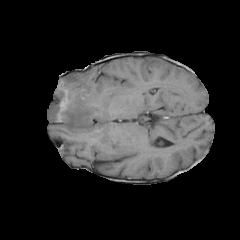glioma: (47, 73, 108, 131)
